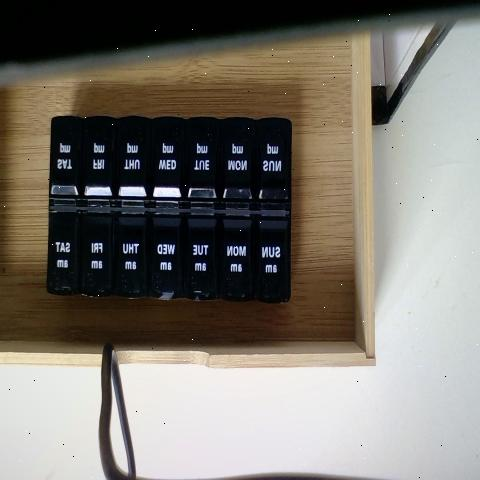FRI-am: (85, 217, 116, 296)
FRI-pm: (84, 120, 114, 205)
MON-am: (224, 222, 256, 303)
MON-pm: (224, 123, 257, 203)
SAT-am: (51, 216, 82, 298)
SAT-pm: (54, 120, 85, 204)
SUN-am: (253, 219, 292, 299)
SUN-pm: (256, 123, 290, 203)
THU-am: (117, 215, 146, 299)
THU-pm: (116, 119, 149, 207)
TUE-am: (188, 221, 220, 297)
TUE-pm: (186, 118, 220, 204)
WED-am: (153, 214, 184, 296)
WED-pm: (153, 120, 185, 210)
